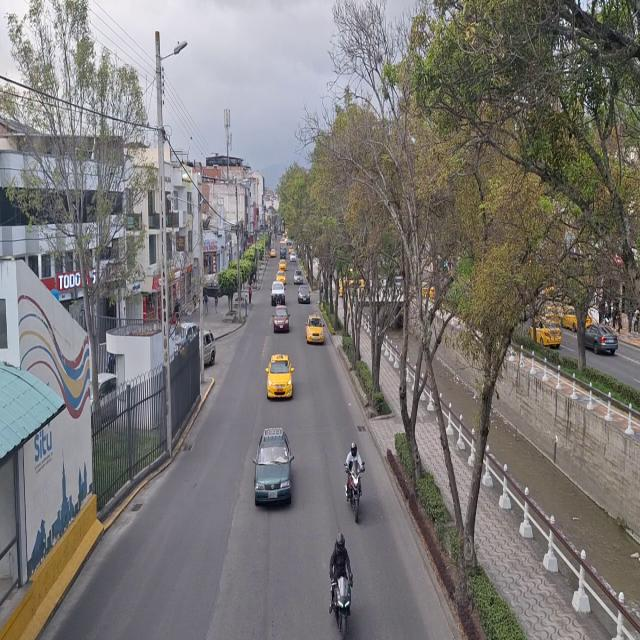MOTORCYCLE: (332, 576, 353, 639), (350, 469, 362, 525)
SED: (268, 355, 293, 397)
